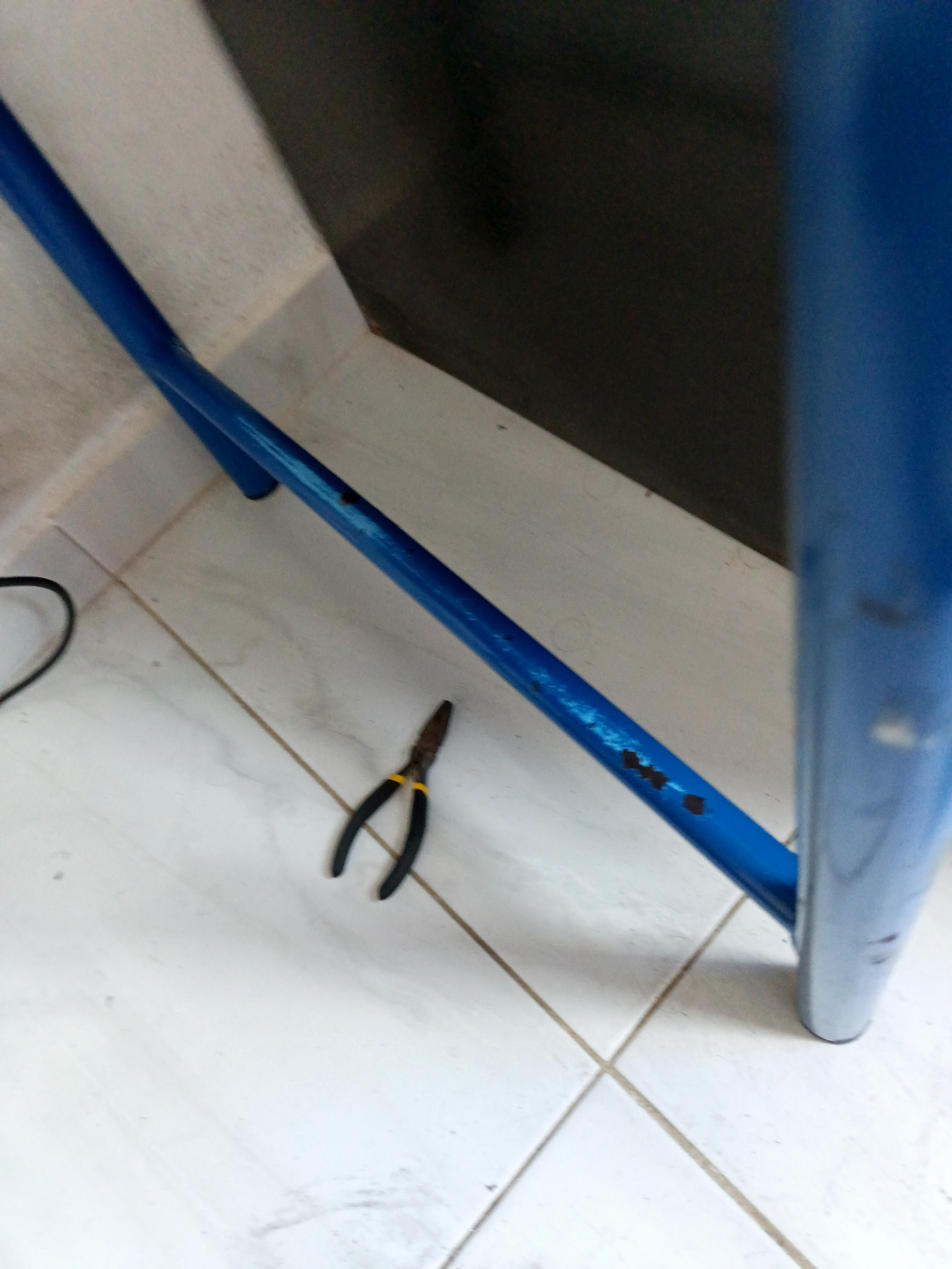Pinzas: (331, 699, 455, 900)
